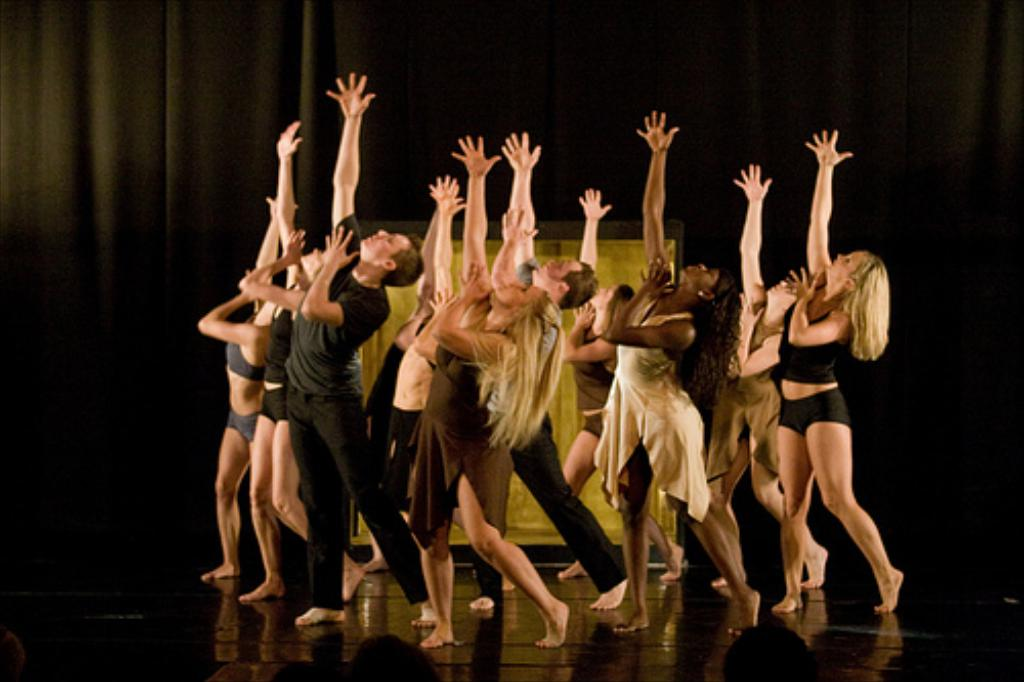Person: (197, 73, 903, 646)
